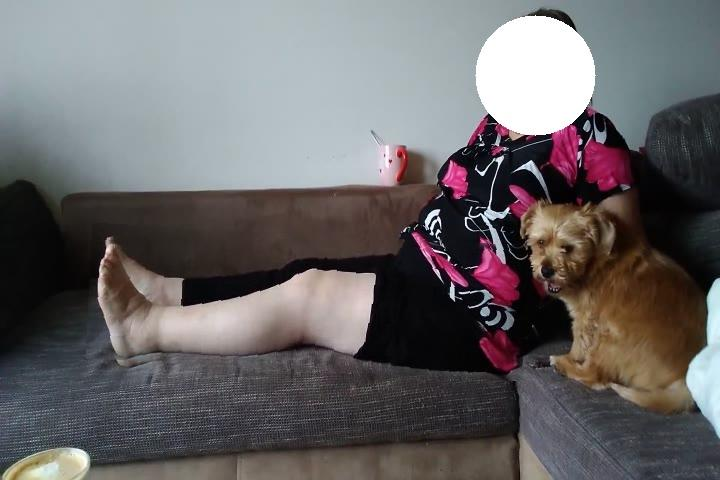lowerbody: (88, 229, 528, 377)
